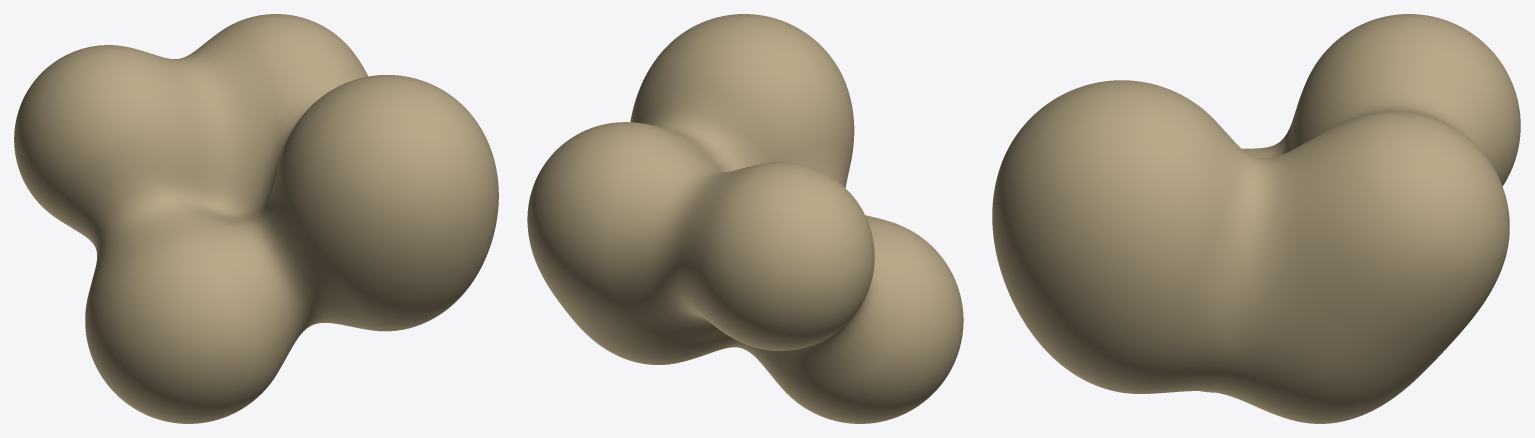
The model's file is source_sculpture.glb.
3 renders of one model, left to right at view 1: azimuth 30°, elevation 25°; view 2: azimuth 150°, elevation 25°; view 3: azimuth 270°, elevation 25°, orthographic. The views are drawn at different scales.
Visible parts, largest first — view 1: source_sculpture; view 2: source_sculpture; view 3: source_sculpture.
Boxes of the visible parts, bbox=[...] form: source_sculpture: bbox=[14, 14, 498, 423]; source_sculpture: bbox=[527, 14, 963, 423]; source_sculpture: bbox=[992, 14, 1520, 423].
Size of the model in its own units: 1.78 by 1.58 by 1.99.
